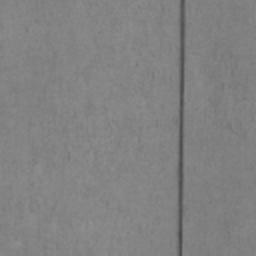Scratches: (177, 0, 186, 256)
